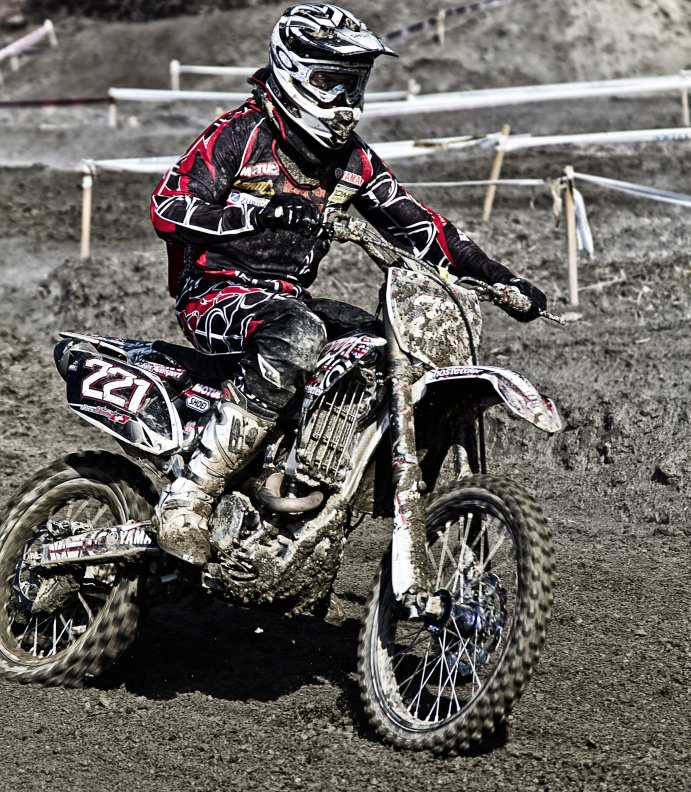helmet: (240, 8, 418, 215)
